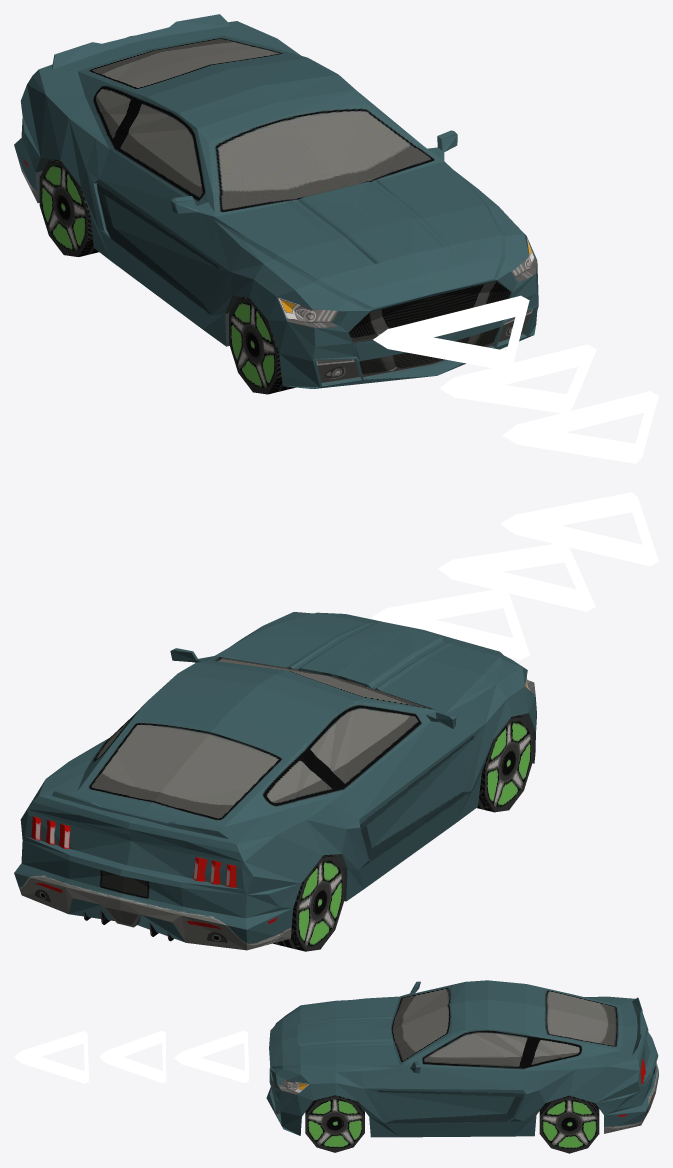
Rendered from cararrow2.glb.
The picture shows the model from 3 angles, top to bottom: view 1: azimuth 30°, elevation 25°; view 2: azimuth 150°, elevation 25°; view 3: azimuth 270°, elevation 25°; orthographic projection. The views are drawn at different scales.
Visible parts, largest first — view 1: SOWXPDD9QMF2G5FUI03HPQR2D, Object_2.002, Object_2.001, Object_2; view 2: SOWXPDD9QMF2G5FUI03HPQR2D, Object_2.002, Object_2, Object_2.001; view 3: SOWXPDD9QMF2G5FUI03HPQR2D, Object_2.001, Object_2.002, Object_2.
Boxes of the visible parts, x1,y1,x2,y2 form: SOWXPDD9QMF2G5FUI03HPQR2D: (14,14,538,394); Object_2.002: (502,391,658,463); Object_2.001: (373,295,529,367); Object_2: (439,344,596,413); SOWXPDD9QMF2G5FUI03HPQR2D: (14,612,536,951); Object_2.002: (500,492,658,566); Object_2: (438,542,595,611); Object_2.001: (371,588,529,659); SOWXPDD9QMF2G5FUI03HPQR2D: (266,980,658,1153); Object_2.001: (174,1030,249,1083); Object_2.002: (14,1031,88,1083); Object_2: (99,1030,166,1083).
Size of the model in its own units: 1.29 by 0.8077 by 4.11.
4 materials, 1 textured.
